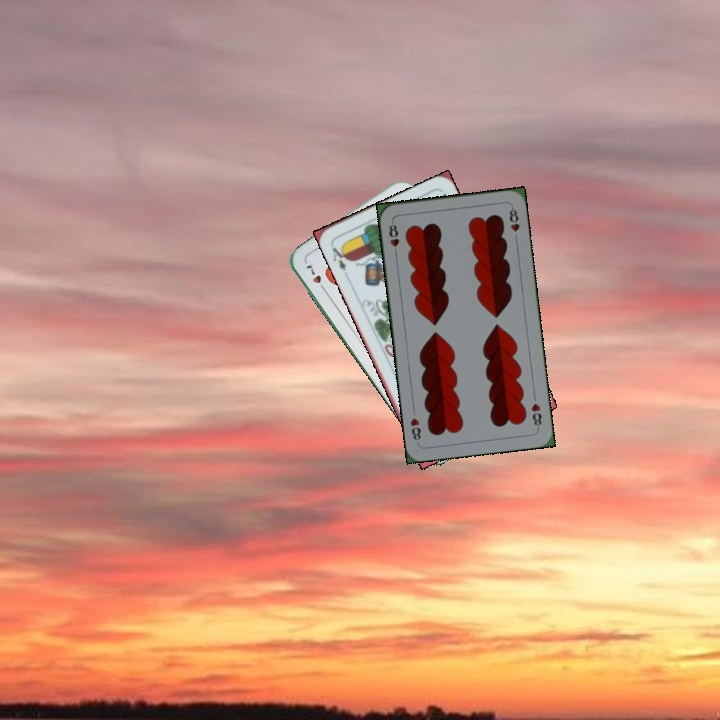EA: (327, 240, 352, 274)
H7: (302, 259, 330, 295)
H8: (385, 218, 402, 258), (527, 399, 544, 431)
